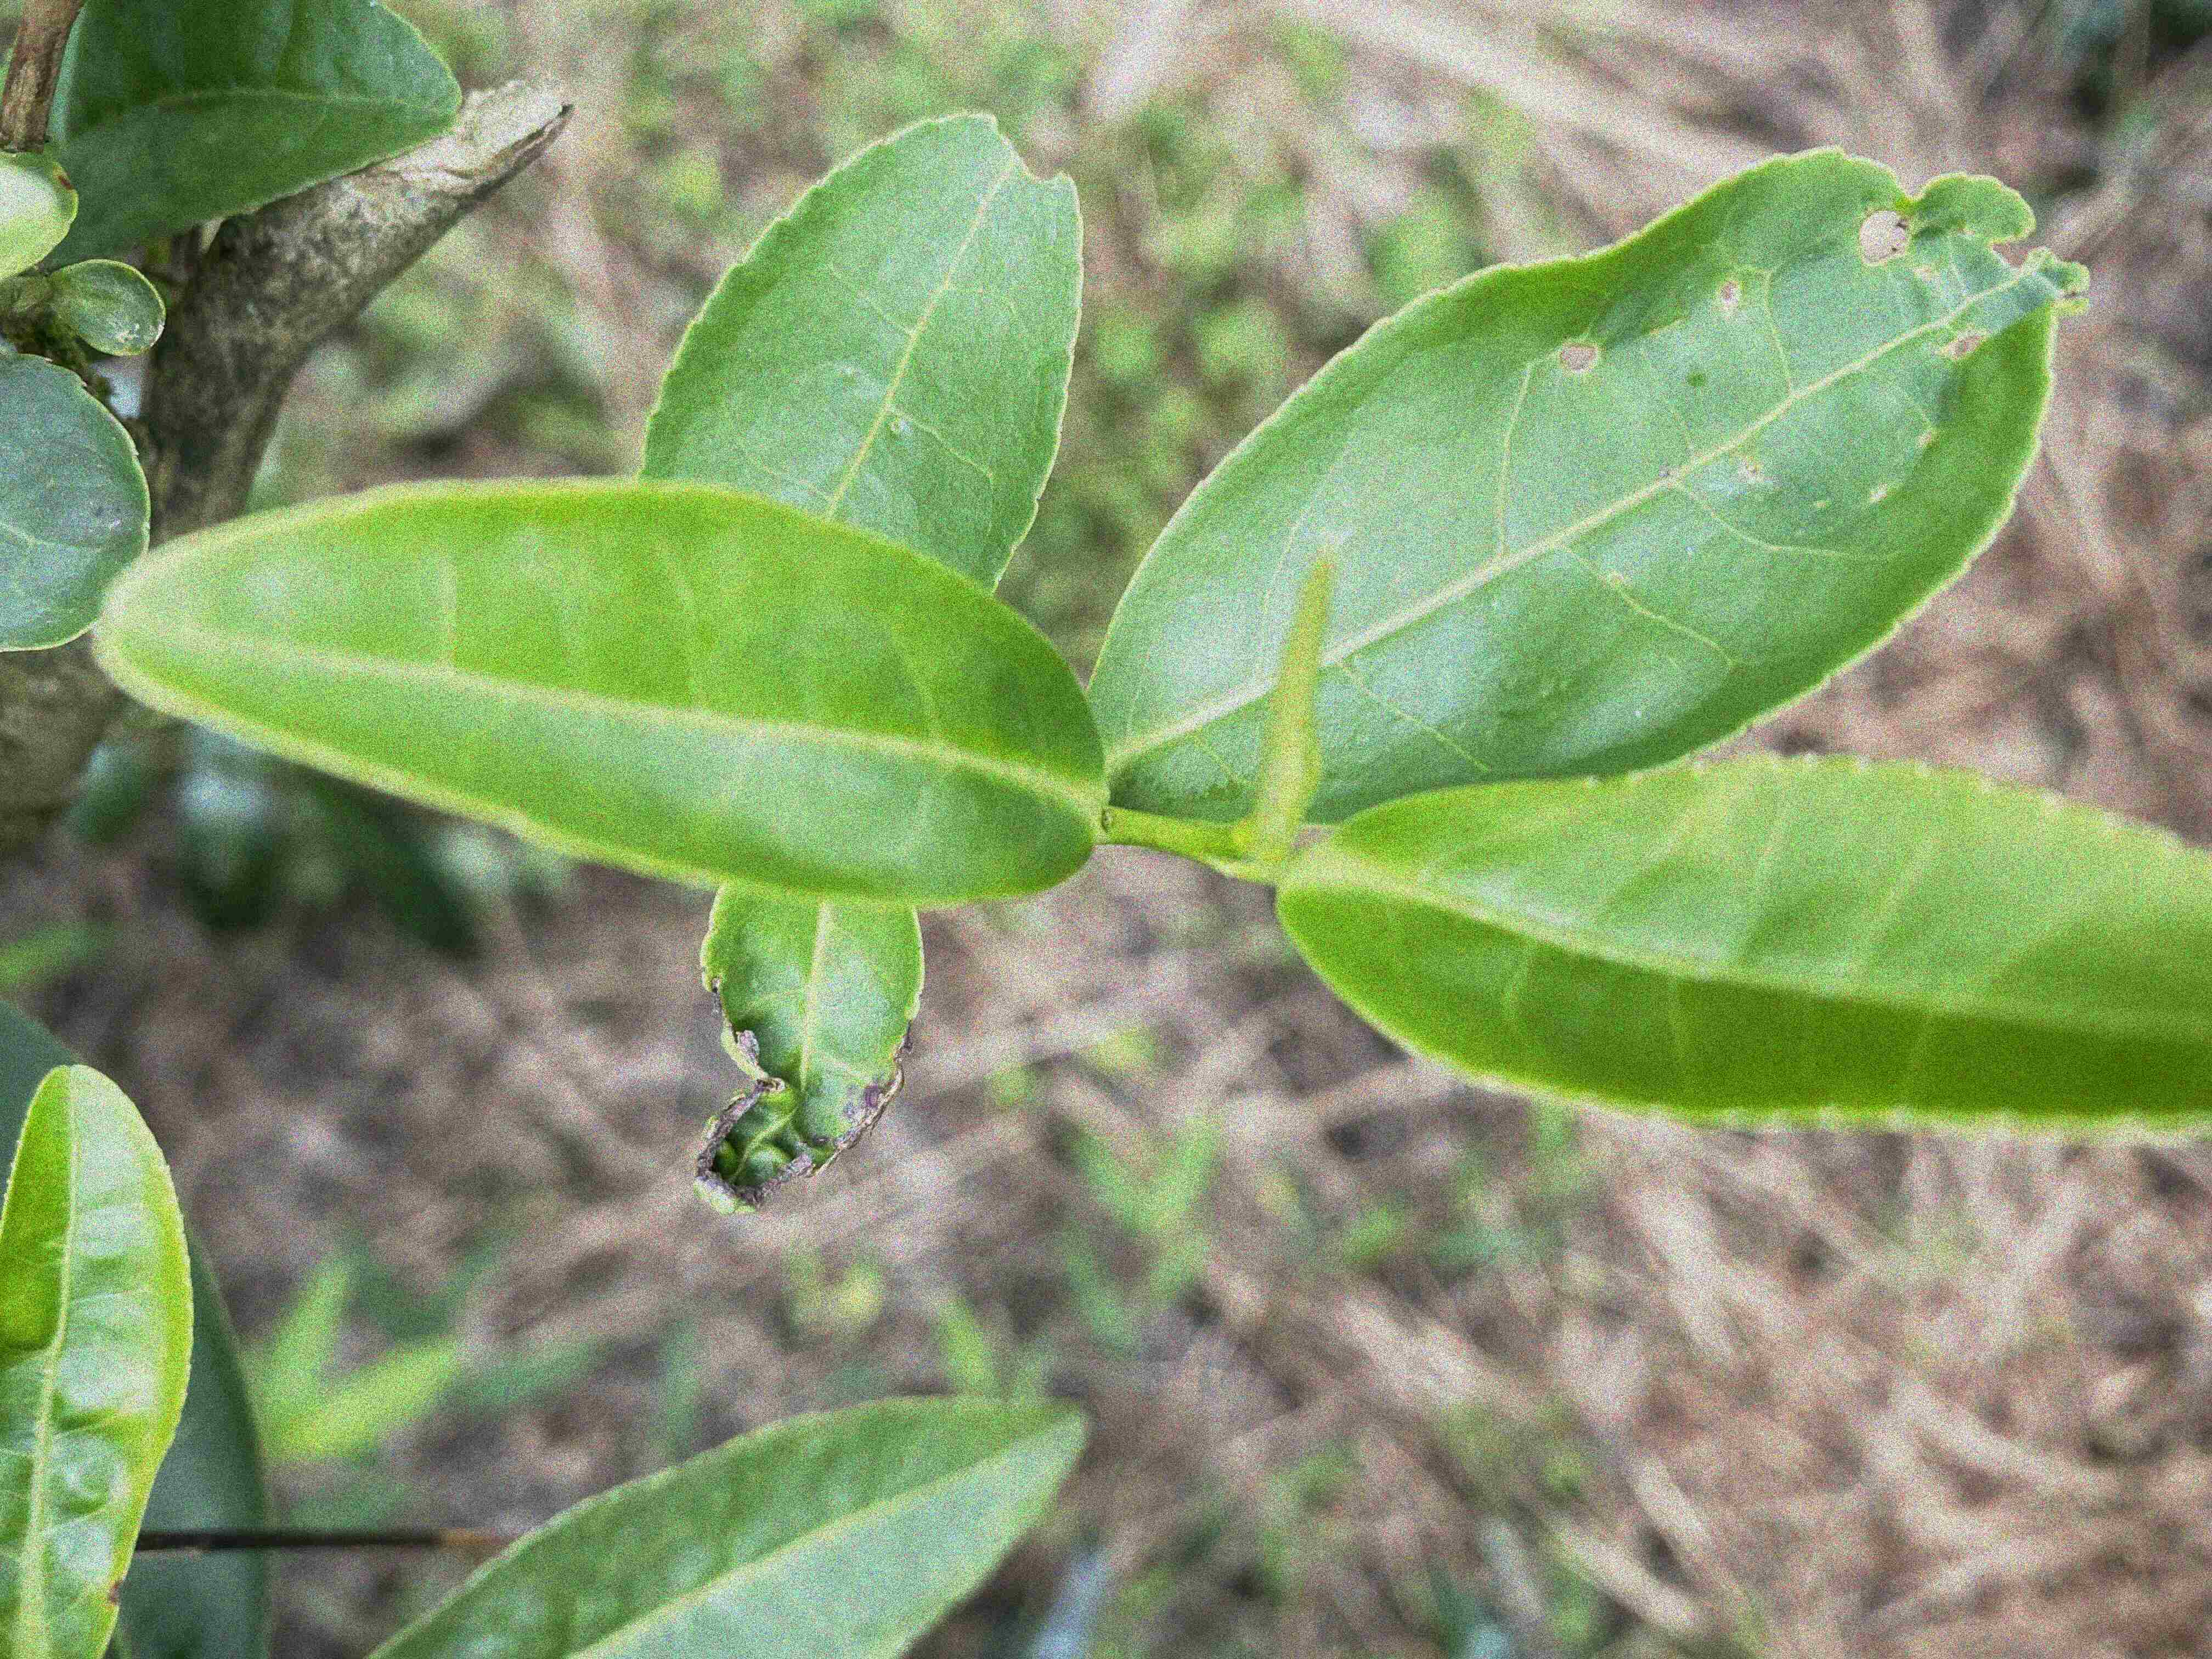chihuo_high: (1089, 143, 2094, 831)
chihuo_low: (634, 113, 1083, 591)
healthy: (94, 477, 1106, 908), (1282, 751, 2212, 1138)
tanju_high: (690, 889, 932, 1215)
tanju_low: (3, 1063, 193, 1657)
